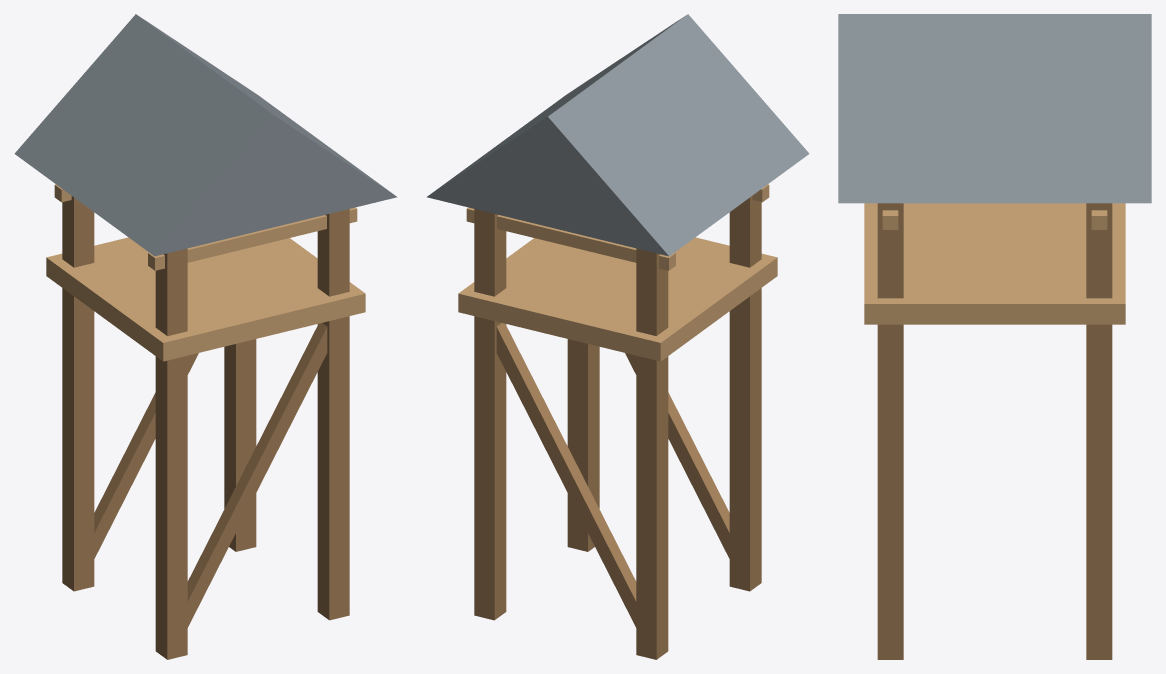
The model's file is watchtower-timber.glb.
3 views of the same model, side by side, from view 1: azimuth 30°, elevation 25°; view 2: azimuth 150°, elevation 25°; view 3: azimuth 270°, elevation 25° (orthographic). The views are drawn at different scales.
Parts seen in each view (by area): view 1: watchtower-timber; view 2: watchtower-timber; view 3: watchtower-timber.
Boxes of the visible parts, x1,y1,x2,y2 form: watchtower-timber: [14, 14, 397, 659]; watchtower-timber: [426, 14, 809, 659]; watchtower-timber: [838, 14, 1151, 659].
Size of the model in its own units: 3 by 6.3 by 3.
